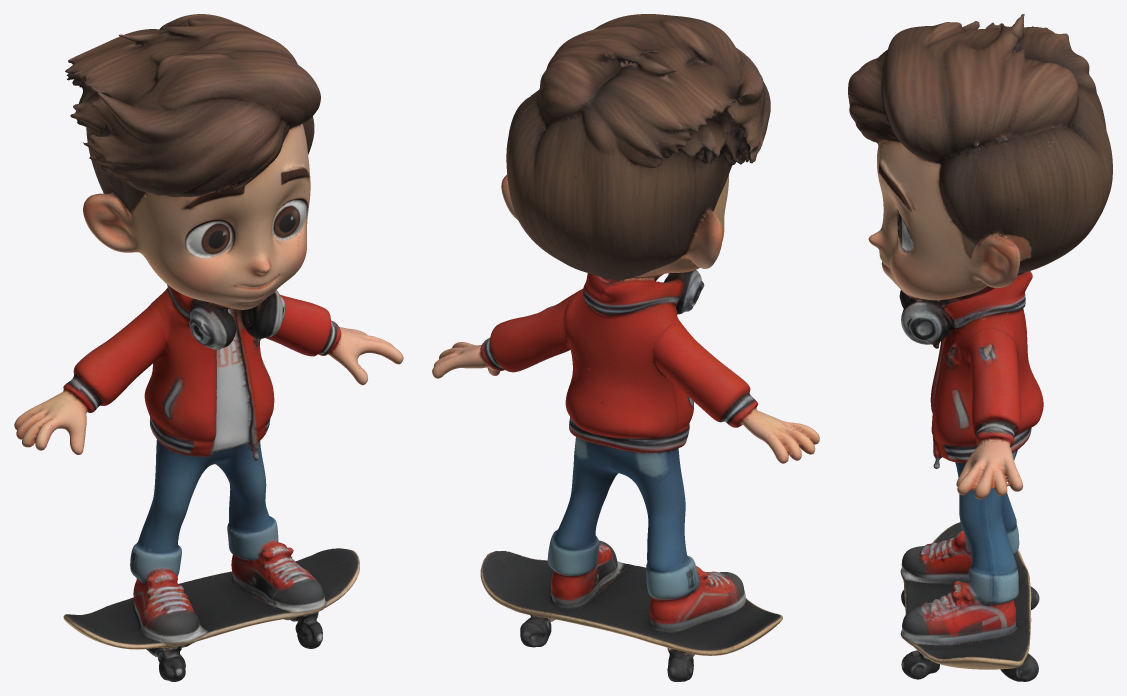
The model's file is player_game.glb.
3 views of the same model, side by side, from view 1: azimuth 30°, elevation 25°; view 2: azimuth 150°, elevation 25°; view 3: azimuth 270°, elevation 25° (orthographic).
Size of the model in its own units: 1.28 by 2 by 0.7982.
1 material, 1 textured.
